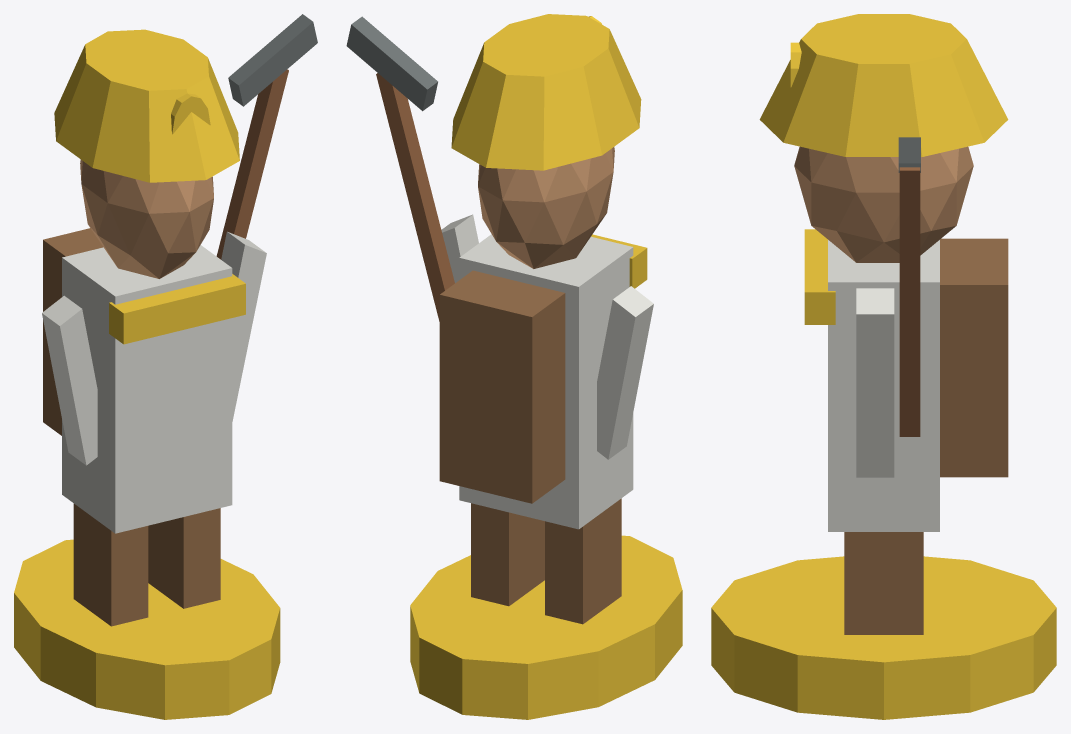
The model's file is peao_garimpeiro_ipe.glb.
3 renders of one model, left to right at view 1: azimuth 30°, elevation 25°; view 2: azimuth 150°, elevation 25°; view 3: azimuth 270°, elevation 25°, orthographic. The views are drawn at different scales.
Parts seen in each view (by area): view 1: peao_garimpeiro_ipe; view 2: peao_garimpeiro_ipe; view 3: peao_garimpeiro_ipe.
Boxes of the visible parts, x1,y1,x2,y2 form: peao_garimpeiro_ipe: (14,14,317,719); peao_garimpeiro_ipe: (346,14,682,719); peao_garimpeiro_ipe: (711,14,1056,719).
Size of the model in its own units: 2 by 4 by 2.
